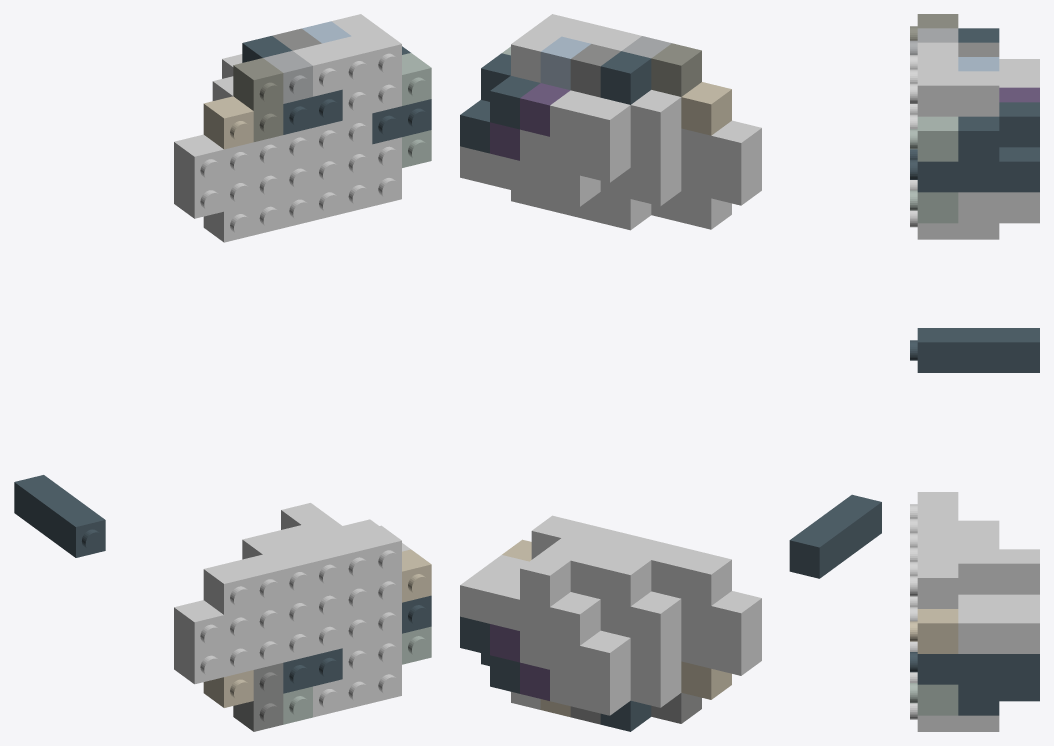
Rendered from full.glb.
3 renders of one model, left to right at view 1: azimuth 30°, elevation 25°; view 2: azimuth 150°, elevation 25°; view 3: azimuth 270°, elevation 25°, orthographic.
Parts seen in each view (by area): view 1: world; view 2: world; view 3: world.
Boxes of the visible parts, x1=… form: world: x1=14, y1=14, x2=431, y2=731; world: x1=460, y1=14, x2=881, y2=731; world: x1=910, y1=14, x2=1039, y2=731.
Bounding box in the file's own units: 96 × 168 × 30.6.
